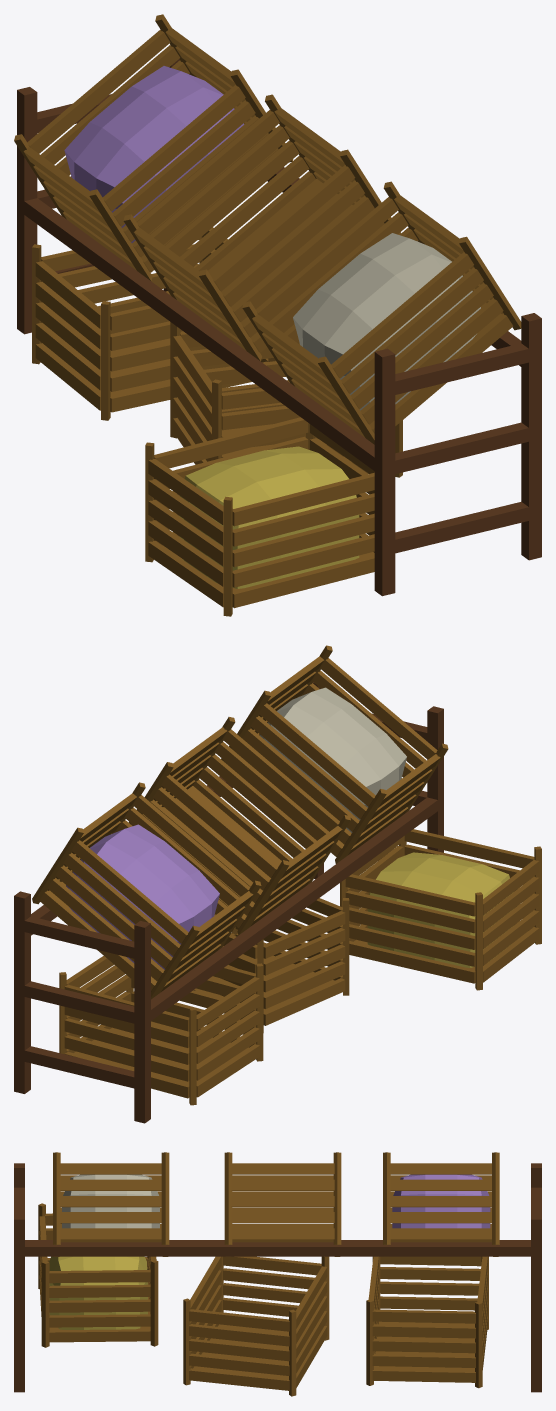
The model's file is Fruitbox_Rag_R.fbx.
The picture shows the model from 3 angles, top to bottom: view 1: azimuth 30°, elevation 25°; view 2: azimuth 150°, elevation 25°; view 3: azimuth 270°, elevation 25°; orthographic projection. The views are drawn at different scales.
Visible parts, largest first — view 1: Fruitbox - With.002, Fruitbox - With.001, Fruitbox.001, Fruitbox - With, Fruitbox, Cube.005, Fruitbox.002, Cube.007, Cube.002, Cube.001, Cube.003, Cube.006; view 2: Fruitbox - With, Fruitbox - With.001, Fruitbox - With.002, Fruitbox.001, Fruitbox, Fruitbox.002, Cube.005, Cube.006, Cube.003, Cube, Cube.002; view 3: Fruitbox.002, Fruitbox, Fruitbox - With.001, Fruitbox.001, Fruitbox - With.002, Fruitbox - With, Cube.004, Cube, Cube.001, Cube.005, Cube.006, Cube.007.
Part boxes in pixels (box(x1,y1,x2,y2)): Fruitbox - With.002: box(242, 181, 521, 444); Fruitbox - With.001: box(145, 417, 374, 616); Fruitbox.001: box(123, 94, 401, 361); Fruitbox - With: box(14, 14, 293, 281); Fruitbox: box(32, 227, 275, 420); Cube.005: box(24, 198, 374, 470); Fruitbox.002: box(170, 322, 402, 477); Cube.007: box(395, 343, 528, 553); Cube.002: box(374, 348, 395, 596); Cube.001: box(521, 313, 541, 560); Cube.003: box(17, 87, 37, 334); Cube.006: box(37, 94, 111, 273); Fruitbox - With: box(32, 782, 261, 999); Fruitbox - With.001: box(340, 829, 541, 990); Fruitbox - With.002: box(221, 645, 448, 863); Fruitbox.001: box(128, 717, 350, 935); Fruitbox: box(59, 956, 263, 1105); Fruitbox.002: box(193, 898, 349, 1032); Cube.005: box(151, 797, 437, 1020); Cube.006: box(24, 916, 134, 1088); Cube.003: box(134, 921, 150, 1123); Cube: box(14, 891, 30, 1093); Cube.002: box(427, 706, 443, 852); Fruitbox.002: box(183, 1256, 329, 1396); Fruitbox: box(366, 1256, 488, 1388); Fruitbox - With.001: box(38, 1203, 158, 1347); Fruitbox.001: box(224, 1152, 341, 1256); Fruitbox - With.002: box(53, 1152, 169, 1256); Fruitbox - With: box(383, 1152, 499, 1256); Cube.004: box(25, 1242, 530, 1256); Cube: box(531, 1215, 541, 1392); Cube.001: box(14, 1215, 24, 1392); Cube.005: box(25, 1240, 530, 1242); Cube.006: box(531, 1187, 541, 1215); Cube.007: box(14, 1187, 24, 1215).
Bounding box in the file's own units: 96.2 × 90.85 × 194.
